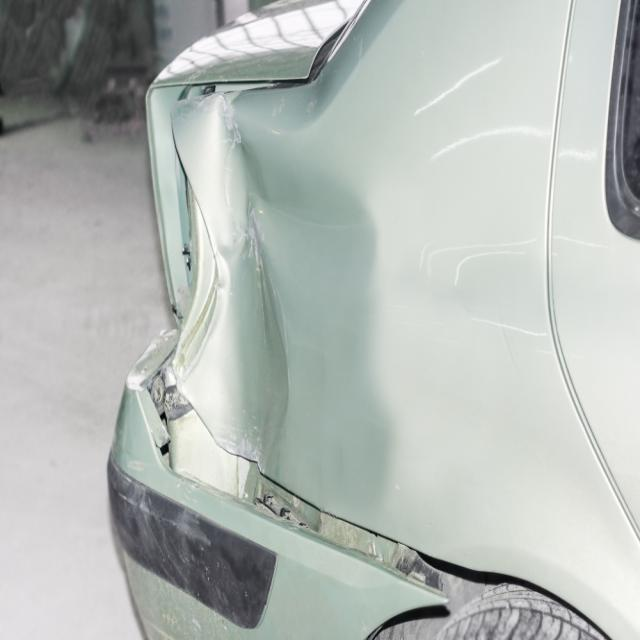dent: (196, 103, 397, 510)
